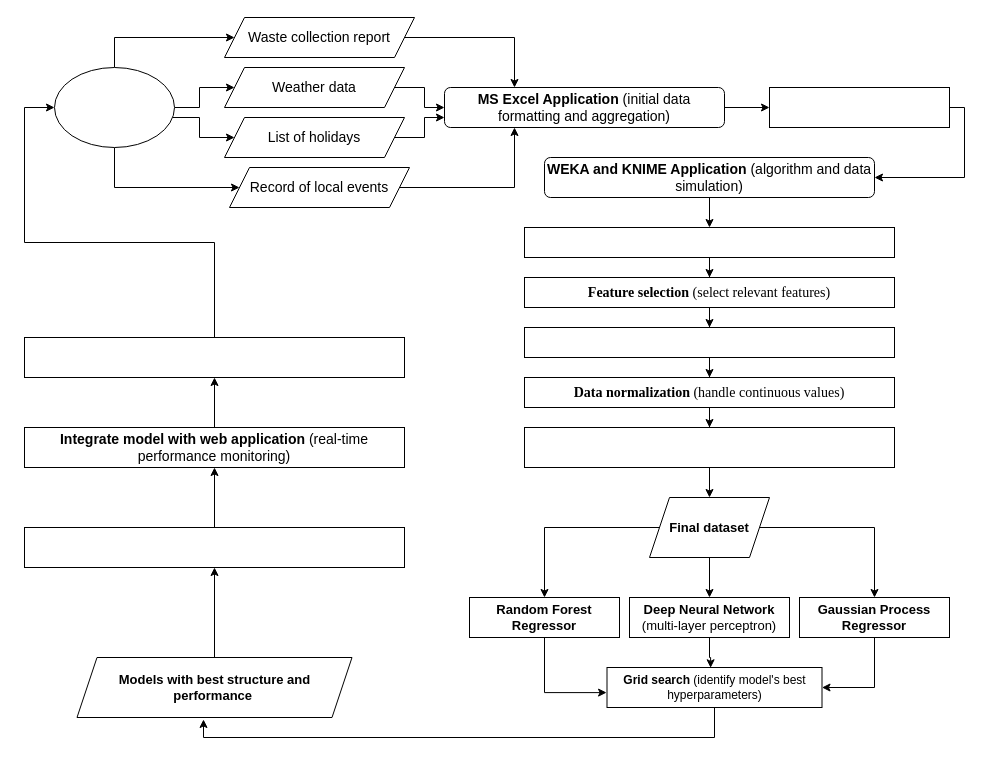
The diagram is 990 pixels wide and 763 high, and some of its shapes have lost their labels. Each missing label, with the box of its shape:
Collect feedback and refine model: (24, 336, 404, 378)
Data cleaning (handle missing data): (524, 326, 894, 358)
Data encoding (encode categorical data into numerical format): (524, 426, 894, 468)
Data Source: (54, 66, 174, 148)
Evaluate models using metrics such as MSE, RMSE and R^2 .: (24, 526, 404, 568)
Exploratory Data Analysis ( data visualizations ): (768, 86, 950, 128)
Feature engineering (extract useful information on an attribute): (524, 226, 894, 258)
